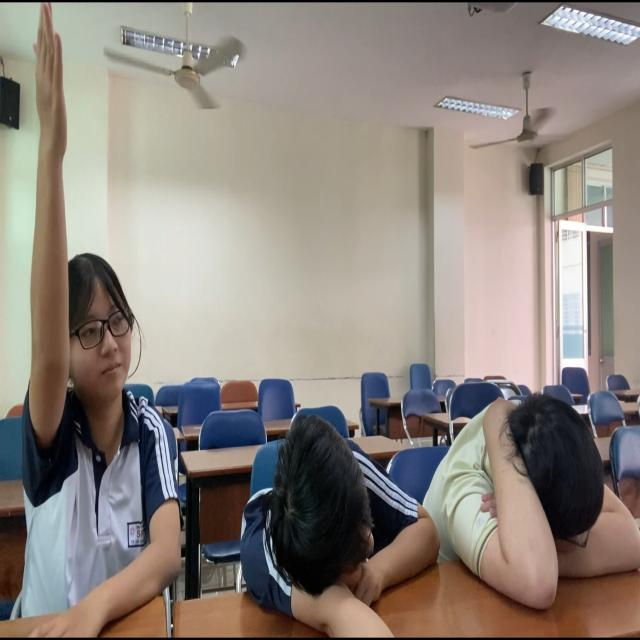raise_hand: (2, 1, 177, 636)
sleep: (233, 393, 444, 640)
